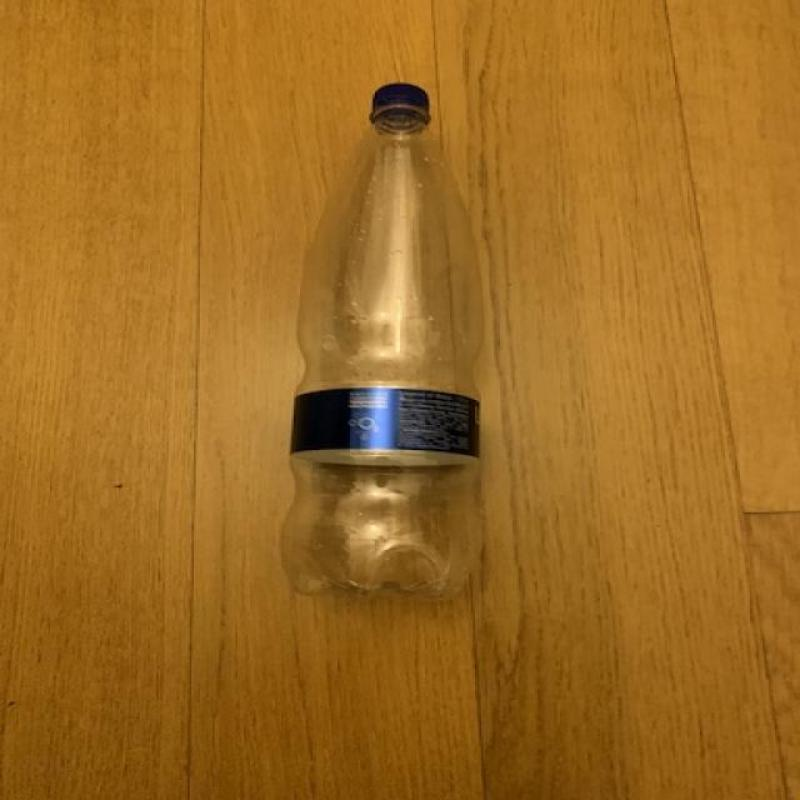botella: (284, 82, 482, 602)
